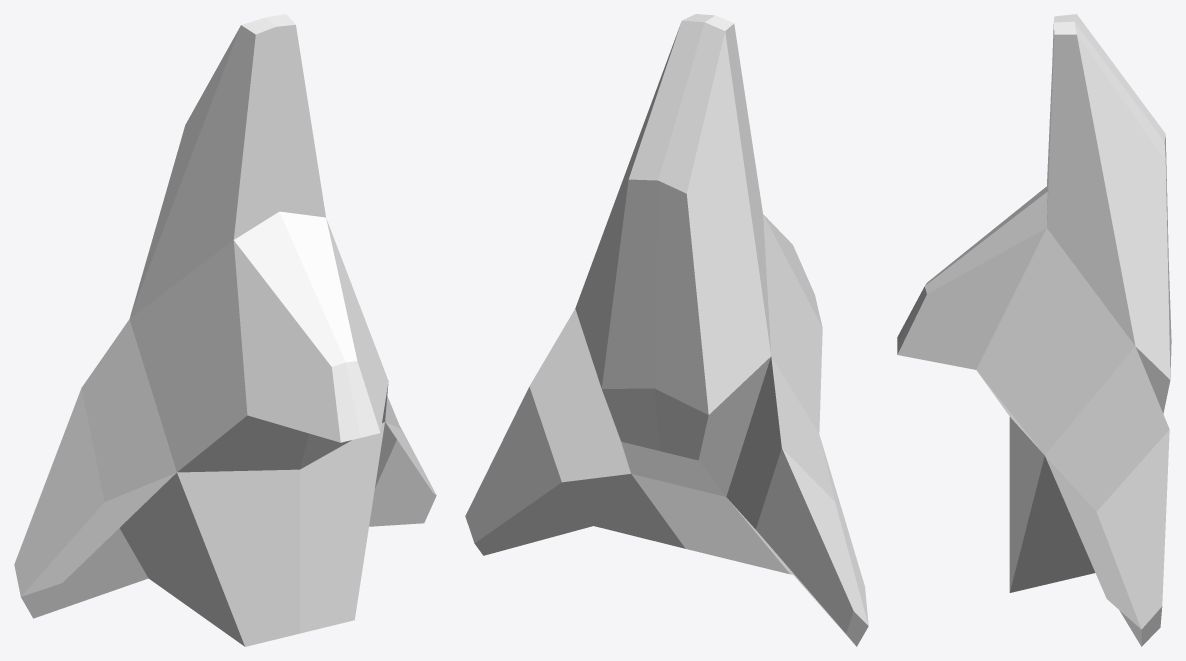
The model's file is head_9.fbx.
The picture shows the model from 3 angles, left to right: view 1: azimuth 30°, elevation 25°; view 2: azimuth 150°, elevation 25°; view 3: azimuth 270°, elevation 25°; orthographic projection. The views are drawn at different scales.
Parts seen in each view (by area): view 1: Cube.128; view 2: Cube.128; view 3: Cube.128.
Part boxes in pixels (left/top/right/bottom): Cube.128: left=14, top=14, right=436, bottom=646; Cube.128: left=465, top=14, right=868, bottom=646; Cube.128: left=897, top=14, right=1171, bottom=646.
Bounding box in the file's own units: 28.17 × 38.21 × 17.37.
